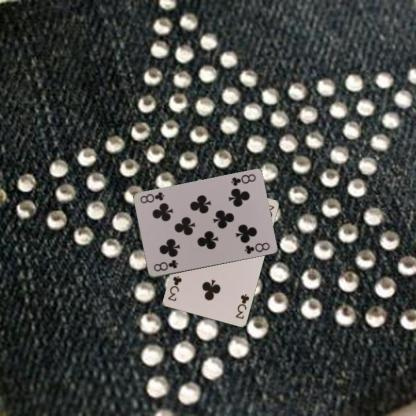3c: (232, 291, 250, 320)
8c: (151, 257, 179, 273), (228, 172, 257, 187)
